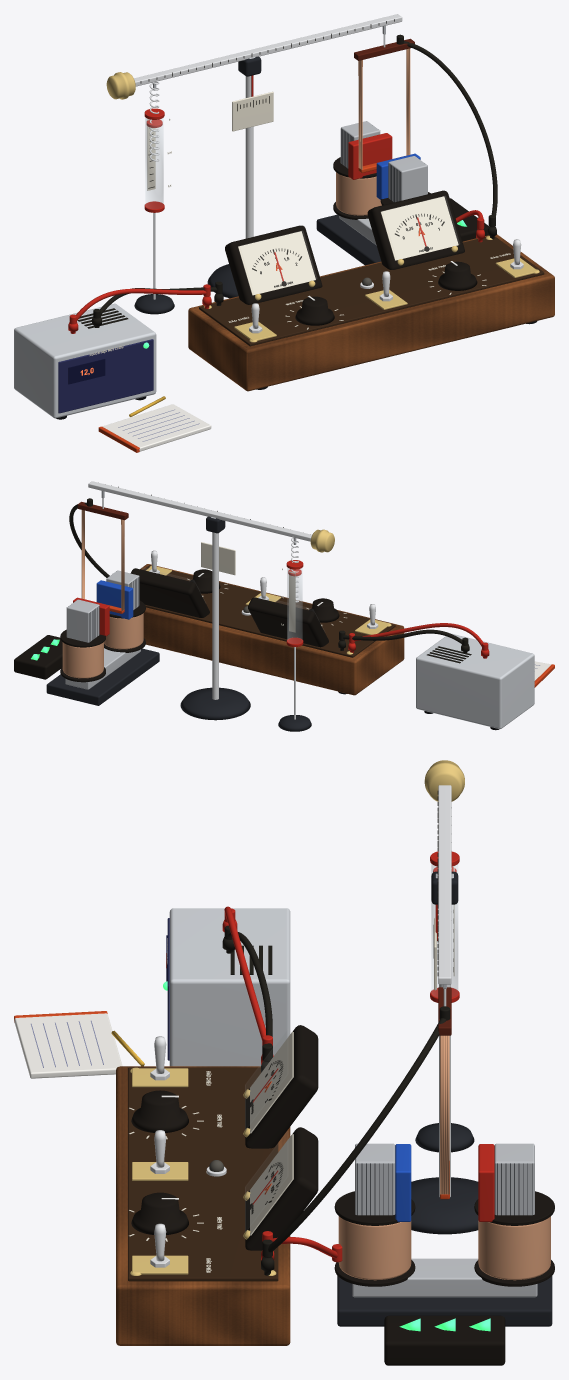
File: current-balance.glb
3 views of the same model, one above another, from view 1: azimuth 30°, elevation 25°; view 2: azimuth 150°, elevation 25°; view 3: azimuth 270°, elevation 25° (orthographic). The views are drawn at different scales.
Visible parts, largest first — view 1: ConsoleBody, ConsolePanel, SupplyCase, SupplyFront, NeedleIFace, NeedleMFace, BookPage, BeamBar, NeedleICase, NeedleMCase, MeterTube, MagnetLeg.001 (+18 smaller); view 2: ConsoleBody, SupplyCase, ConsolePanel, NeedleICase, NeedleMCase, MagnetBase, StandBase, BeamBar, LampBox, Coil, MagnetLeg, MeterTube (+18 smaller); view 3: ConsolePanel, SupplyCase, ConsoleBody, LampBox, BookPage, MagnetBase, MagnetYoke, Coil, Coil.001, NeedleMCase, NeedleICase, StandBase (+20 smaller).
Boxes of the visible parts, left/top/right/bottom form: ConsoleBody: left=188, top=234, right=554, bottom=391; ConsolePanel: left=199, top=236, right=544, bottom=346; SupplyCase: left=14, top=303, right=156, bottom=418; SupplyFront: left=58, top=339, right=153, bottom=413; NeedleIFace: left=380, top=196, right=458, bottom=260; NeedleMFace: left=238, top=231, right=315, bottom=295; BookPage: left=102, top=404, right=211, bottom=451; BeamBar: left=134, top=14, right=402, bottom=86; NeedleICase: left=367, top=190, right=464, bottom=269; NeedleMCase: left=225, top=225, right=322, bottom=304; MeterTube: left=145, top=118, right=163, bottom=208; MagnetLeg.001: left=388, top=156, right=427, bottom=202; ConsoleBody: left=140, top=564, right=404, bottom=695; SupplyCase: left=416, top=633, right=534, bottom=729; ConsolePanel: left=143, top=565, right=395, bottom=657; NeedleICase: left=130, top=568, right=209, bottom=617; NeedleMCase: left=248, top=597, right=328, bottom=647; MagnetBase: left=46, top=648, right=159, bottom=705; StandBase: left=180, top=687, right=250, bottom=720; BeamBar: left=88, top=481, right=311, bottom=541; LampBox: left=14, top=635, right=62, bottom=679; Coil: left=62, top=642, right=103, bottom=678; MagnetLeg: left=66, top=599, right=99, bottom=642; MeterTube: left=287, top=568, right=302, bottom=643; ConsolePanel: left=128, top=1067, right=278, bottom=1281; SupplyCase: left=169, top=908, right=290, bottom=1066; ConsoleBody: left=116, top=1066, right=290, bottom=1345; LampBox: left=384, top=1315, right=505, bottom=1365; BookPage: left=14, top=1013, right=122, bottom=1078; MagnetBase: left=337, top=1276, right=552, bottom=1326; MagnetYoke: left=352, top=1258, right=537, bottom=1297; Coil: left=478, top=1216, right=550, bottom=1280; Coil.001: left=338, top=1216, right=411, bottom=1280; NeedleMCase: left=245, top=1025, right=318, bottom=1148; NeedleICase: left=245, top=1127, right=318, bottom=1250; StandBase: left=411, top=1177, right=478, bottom=1234.
Bounding box in the file's own units: 6.45 × 2.95 × 4.03.
Materials: 37 (1 with a texture image).
